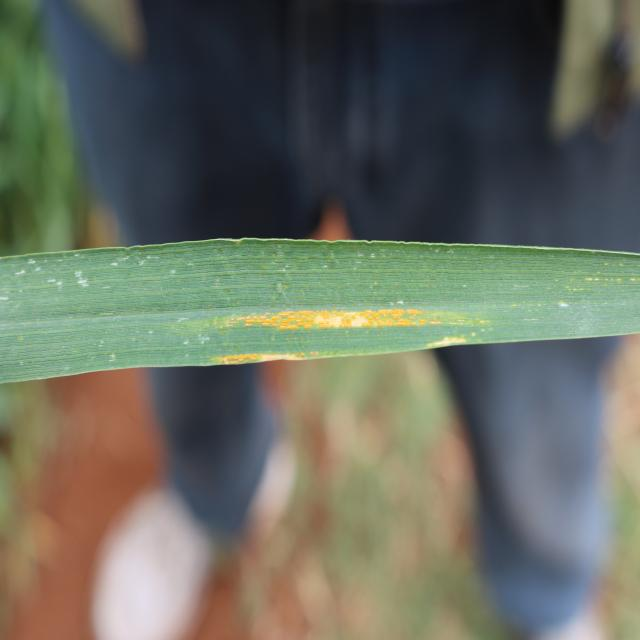Stripe Rust: (242, 301, 447, 340)
